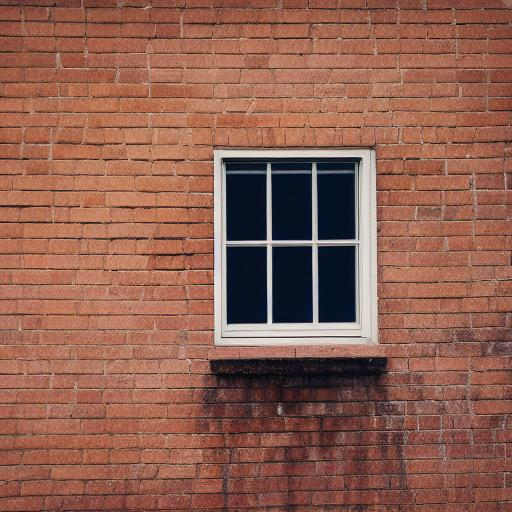Window: (210, 143, 388, 366)
